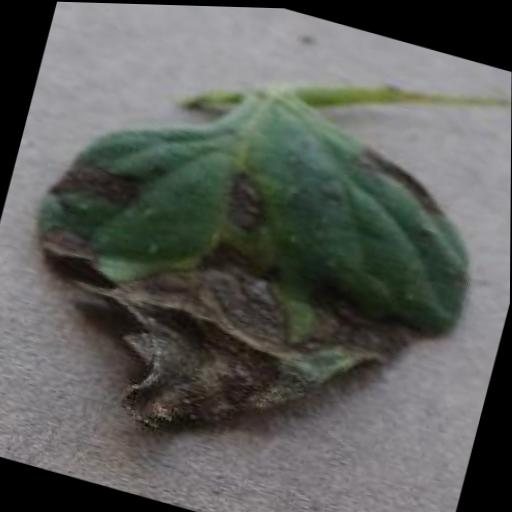Early Blight: (0, 34, 501, 495)
